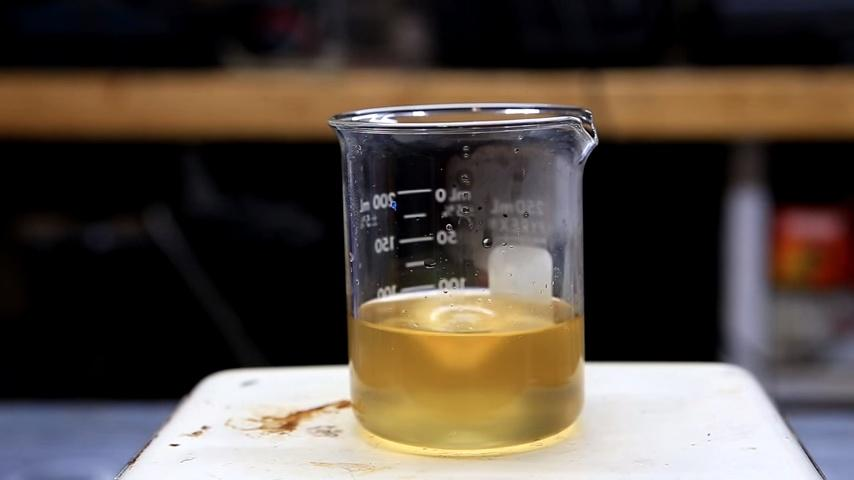Beaker: (323, 94, 614, 458)
